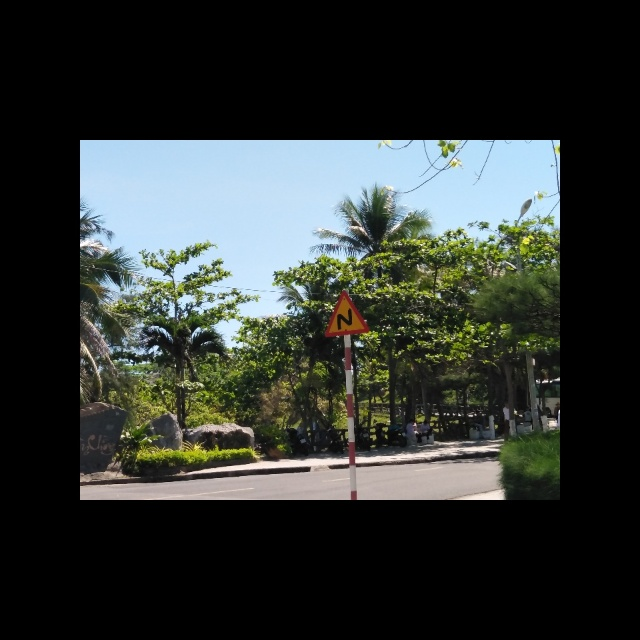Ngoặt nguy hiểm liên tiếp bên phải: (322, 292, 369, 336)
